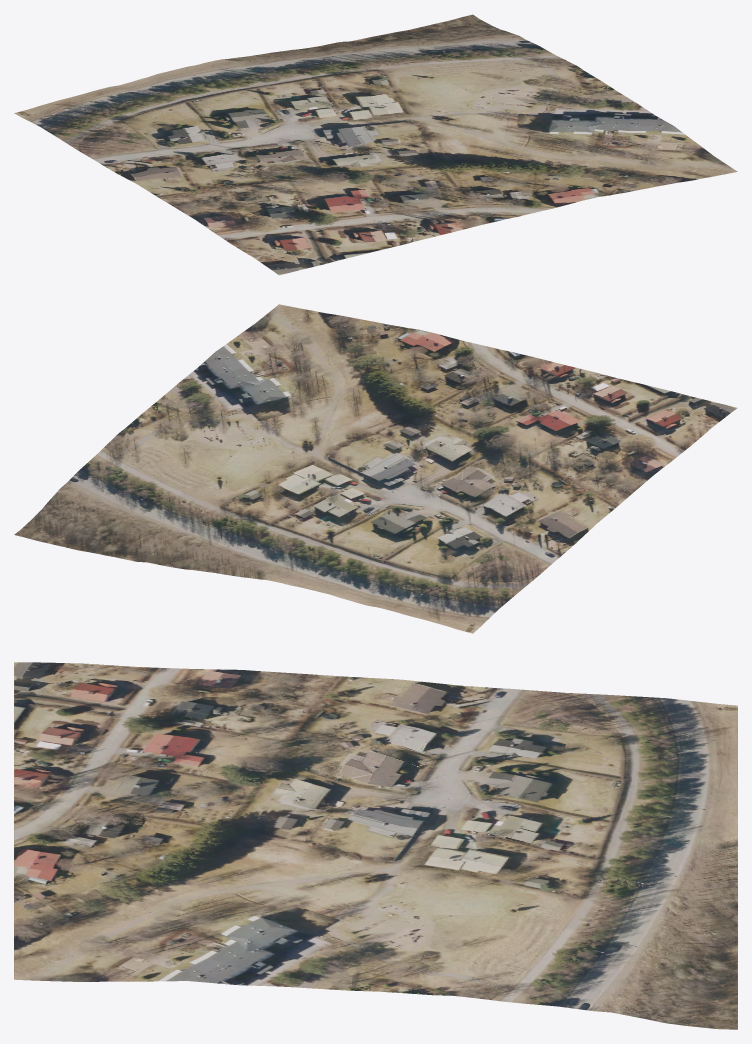
Rendered from CM_Terrain_24492097_6818565.fbx.
The picture shows the model from 3 angles, top to bottom: view 1: azimuth 30°, elevation 25°; view 2: azimuth 150°, elevation 25°; view 3: azimuth 270°, elevation 25°; orthographic projection. The views are drawn at different scales.
Parts seen in each view (by area): view 1: CM_Terrain_24492097_6818565_LOD0; view 2: CM_Terrain_24492097_6818565_LOD0; view 3: CM_Terrain_24492097_6818565_LOD0.
Part boxes in pixels (box(x1,y1,x2,y2)): CM_Terrain_24492097_6818565_LOD0: box(14, 14, 737, 275); CM_Terrain_24492097_6818565_LOD0: box(14, 304, 737, 633); CM_Terrain_24492097_6818565_LOD0: box(14, 662, 737, 1029).
Size of what is drawn, in the model's own units: 205 by 19.77 by 205.
